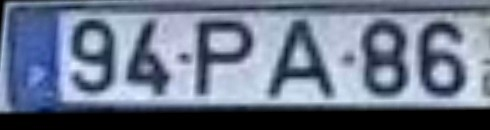4: (121, 19, 176, 103)
6: (416, 19, 474, 104)
8: (357, 18, 414, 103)
9: (67, 17, 118, 100)
A: (260, 17, 344, 104)
P: (191, 18, 263, 103)
